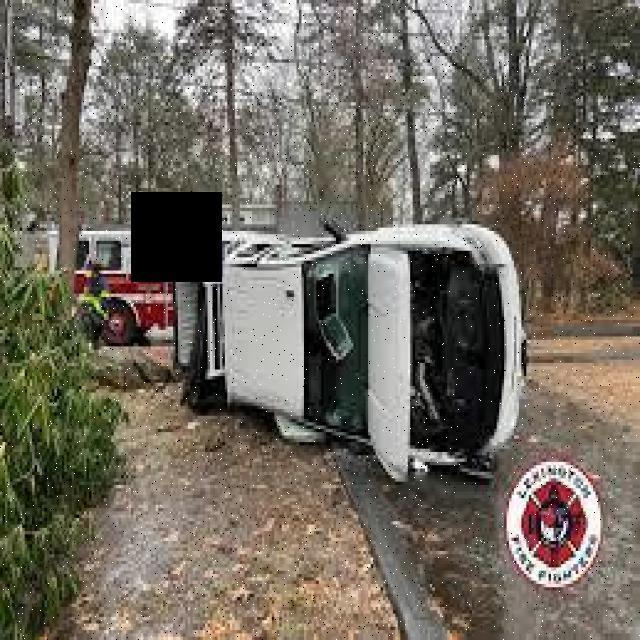single accident: (100, 167, 573, 503)
